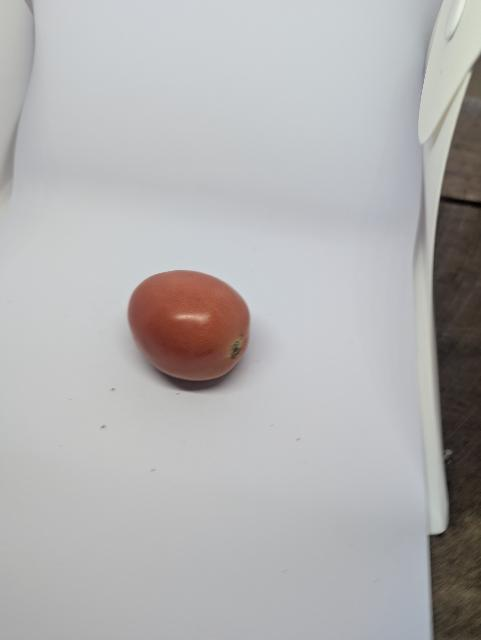red: (125, 269, 254, 384)
